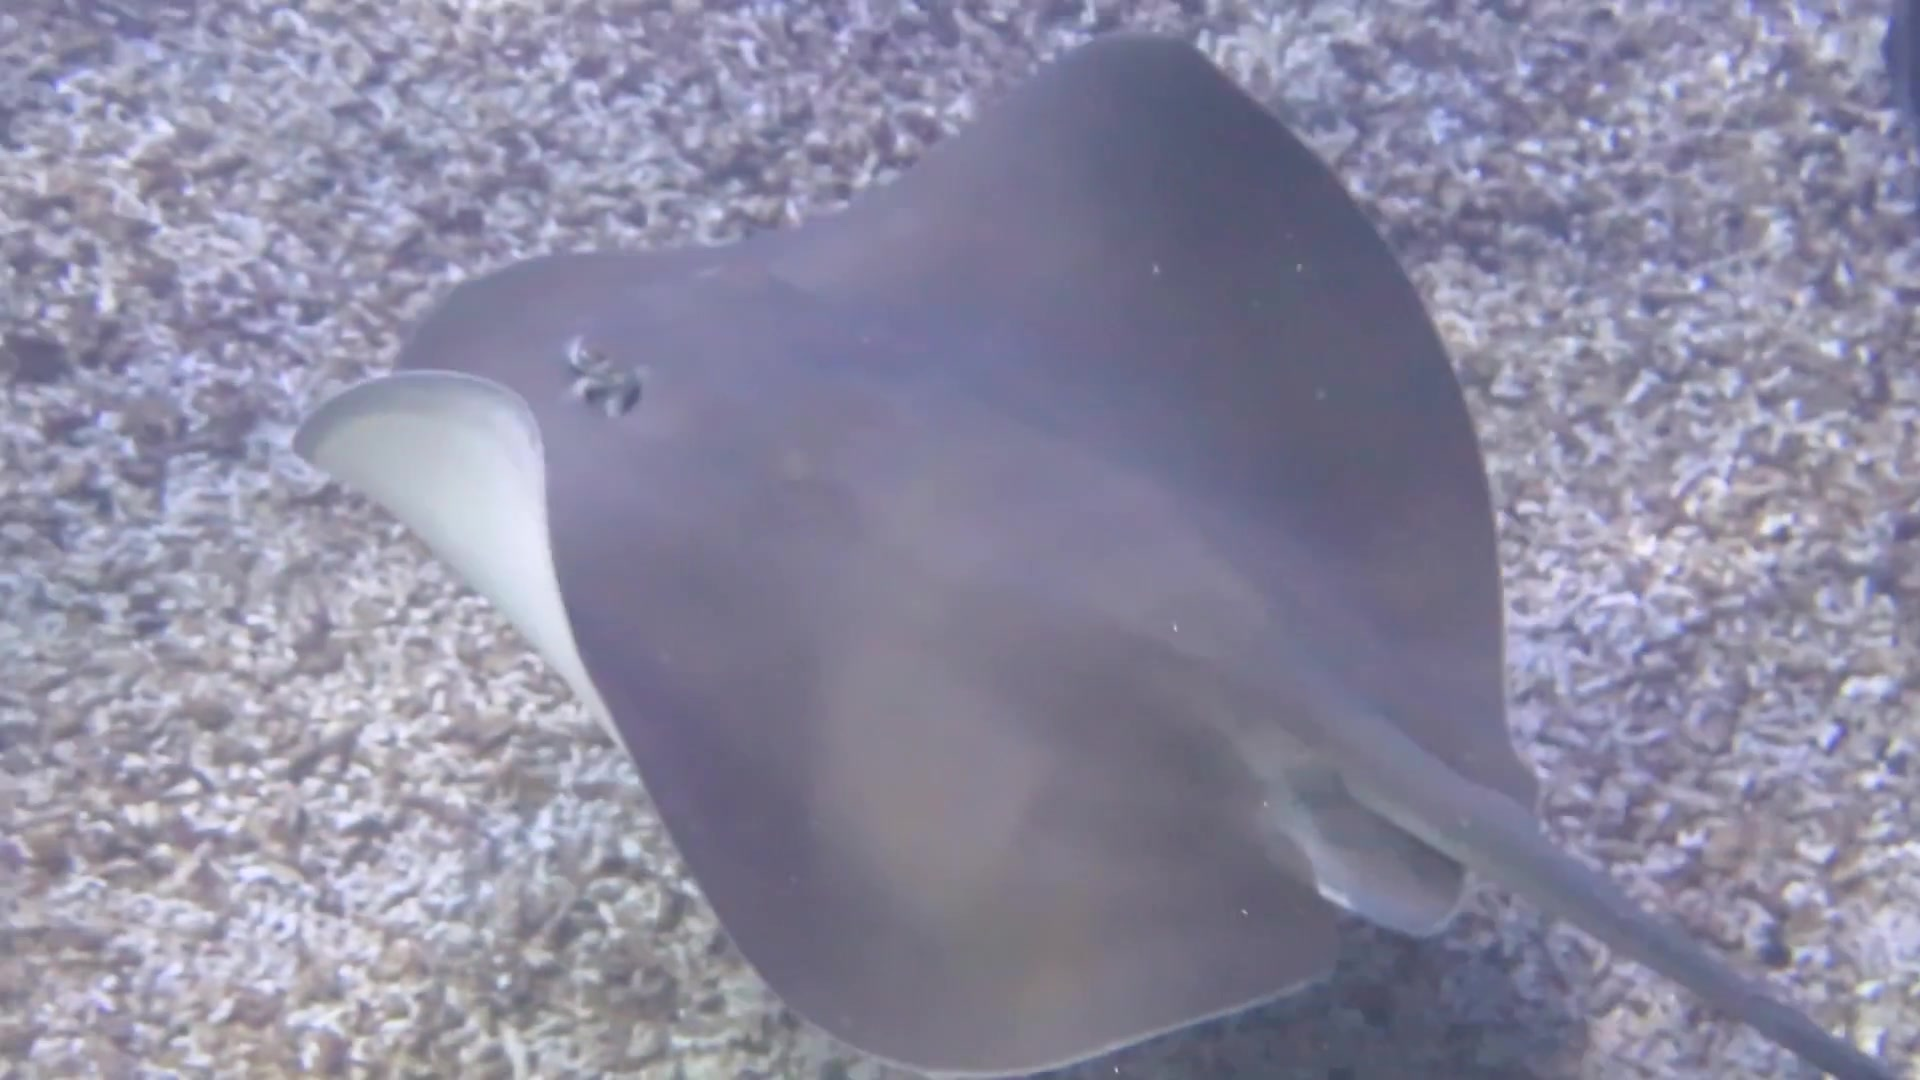Dasyatis akajei: (299, 20, 1920, 1080)
